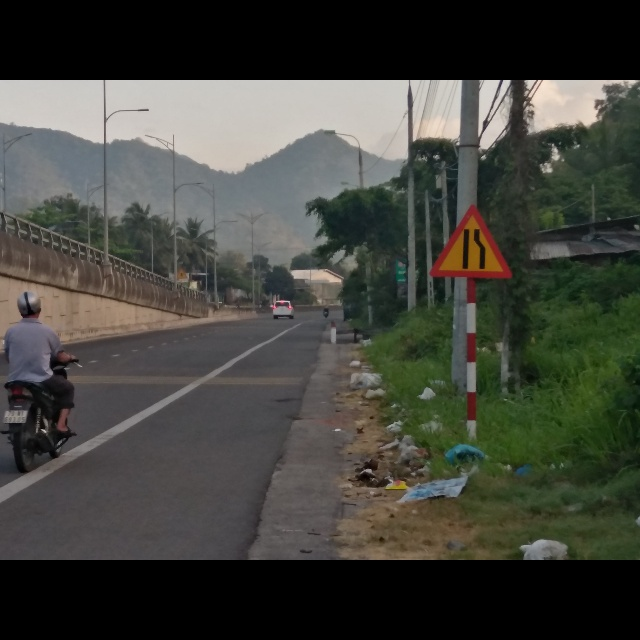Đường bị hẹp bên phải: (425, 204, 510, 281)
